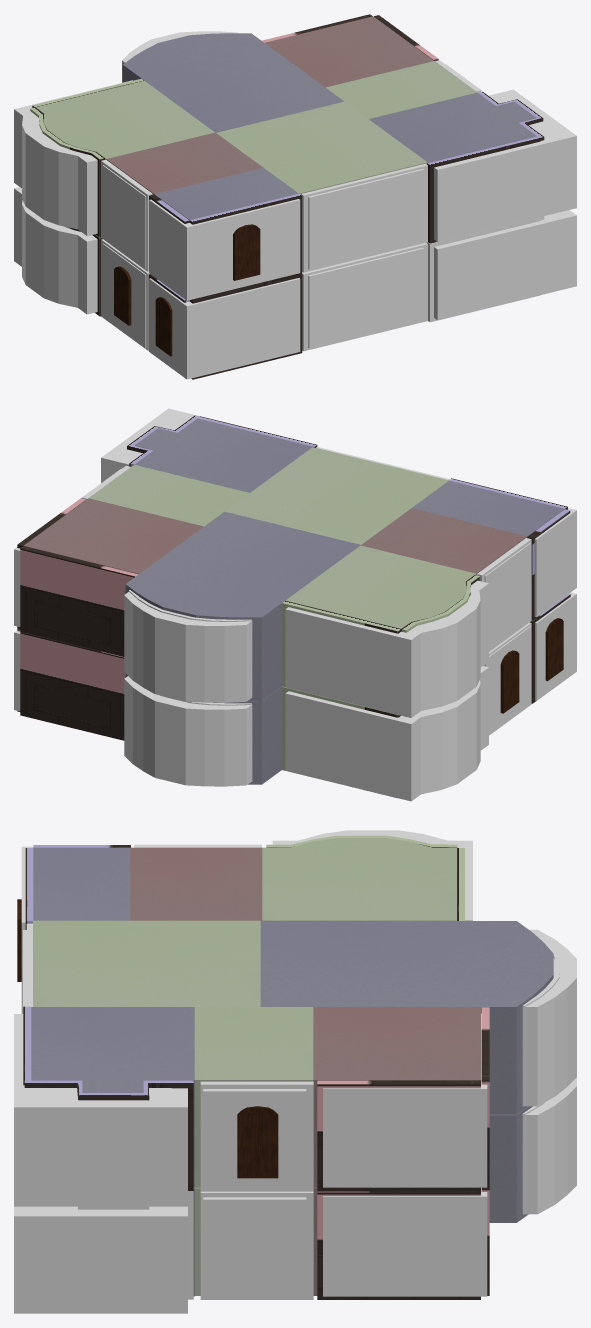
File: dom z teksturami past.fbx
3 renders of one model, top to bottom at view 1: azimuth 30°, elevation 25°; view 2: azimuth 150°, elevation 25°; view 3: azimuth 270°, elevation 25°, orthographic. The views are drawn at different scales.
Visible parts, largest first — view 1: Salon.001, Bathroom hole (always inactive).001, Bathroom hole (always inactive), Corridor.001, Maids room hole (always inactive), Maids room hole (always inactive).001, Corridor hole (always inactive).001, Corridor hole (always inactive), Dining room.001, Dining hole (always inactive).001, Bathroom.001, Kitchen.001 (+20 smaller); view 2: Salon.001, Dining hole (always inactive).001, Dining hole (always inactive), Corridor.001, Salon hole (always inactive).001, Salon hole (always inactive), Dining room.001, Kitchen back wall.001, Kitchen back wall, Bathroom.001, Kitchen.001, Guest room.001 (+19 smaller); view 3: Salon.001, Bathroom hole (always inactive).001, Corridor.001, Bathroom hole (always inactive), Kitchen hole (always inactive), Kitchen hole (always inactive).001, Dining room.001, Bathroom.001, Kitchen.001, Storage hole (always inactive), Guest room.001, Storage.001 (+19 smaller).
Boxes of the visible parts, <box> form: Salon.001: <box>122,33,343,132</box>; Bathroom hole (always inactive).001: <box>434,89,576,241</box>; Bathroom hole (always inactive): <box>434,210,576,320</box>; Corridor.001: <box>216,101,427,194</box>; Maids room hole (always inactive): <box>149,278,300,379</box>; Maids room hole (always inactive).001: <box>149,199,300,300</box>; Corridor hole (always inactive).001: <box>308,169,424,269</box>; Corridor hole (always inactive): <box>308,247,424,348</box>; Dining room.001: <box>35,80,214,159</box>; Dining hole (always inactive).001: <box>14,80,132,235</box>; Bathroom.001: <box>369,92,536,162</box>; Kitchen.001: <box>264,16,433,87</box>; Salon.001: <box>125,511,360,700</box>; Dining hole (always inactive).001: <box>285,580,488,717</box>; Dining hole (always inactive): <box>285,666,488,801</box>; Corridor.001: <box>225,447,448,544</box>; Salon hole (always inactive).001: <box>124,592,252,702</box>; Salon hole (always inactive): <box>124,676,252,786</box>; Dining room.001: <box>285,545,476,628</box>; Kitchen back wall.001: <box>20,546,138,656</box>; Kitchen back wall: <box>20,632,125,740</box>; Bathroom.001: <box>135,418,312,492</box>; Kitchen.001: <box>24,498,203,574</box>; Guest room.001: <box>361,508,527,575</box>; Salon.001: <box>260,921,553,1114</box>; Bathroom hole (always inactive).001: <box>14,1014,187,1206</box>; Corridor.001: <box>33,920,260,1006</box>; Bathroom hole (always inactive): <box>14,1206,187,1313</box>; Kitchen hole (always inactive): <box>323,1187,487,1296</box>; Kitchen hole (always inactive).001: <box>323,1013,487,1187</box>; Dining room.001: <box>262,838,456,920</box>; Bathroom.001: <box>31,1007,194,1187</box>; Kitchen.001: <box>313,1007,480,1187</box>; Storage hole (always inactive): <box>203,1197,306,1296</box>; Guest room.001: <box>130,847,262,920</box>; Storage.001: <box>194,1007,313,1187</box>.
Size of the model in its own units: 1690 by 619 by 1458.
